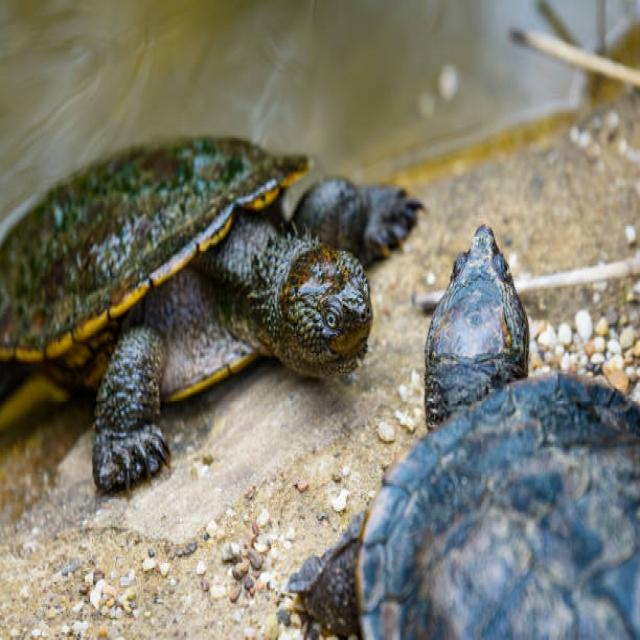terrapin: (0, 130, 301, 360), (358, 404, 640, 640), (424, 221, 538, 425), (229, 229, 376, 383), (79, 336, 177, 493), (291, 164, 416, 257), (281, 519, 363, 640)
